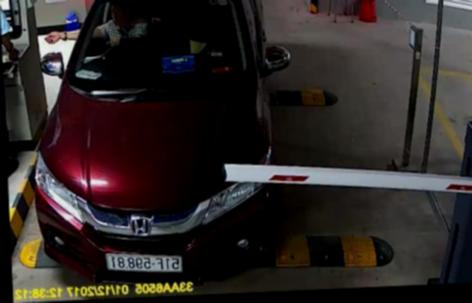License_Plate: (102, 247, 189, 279)
